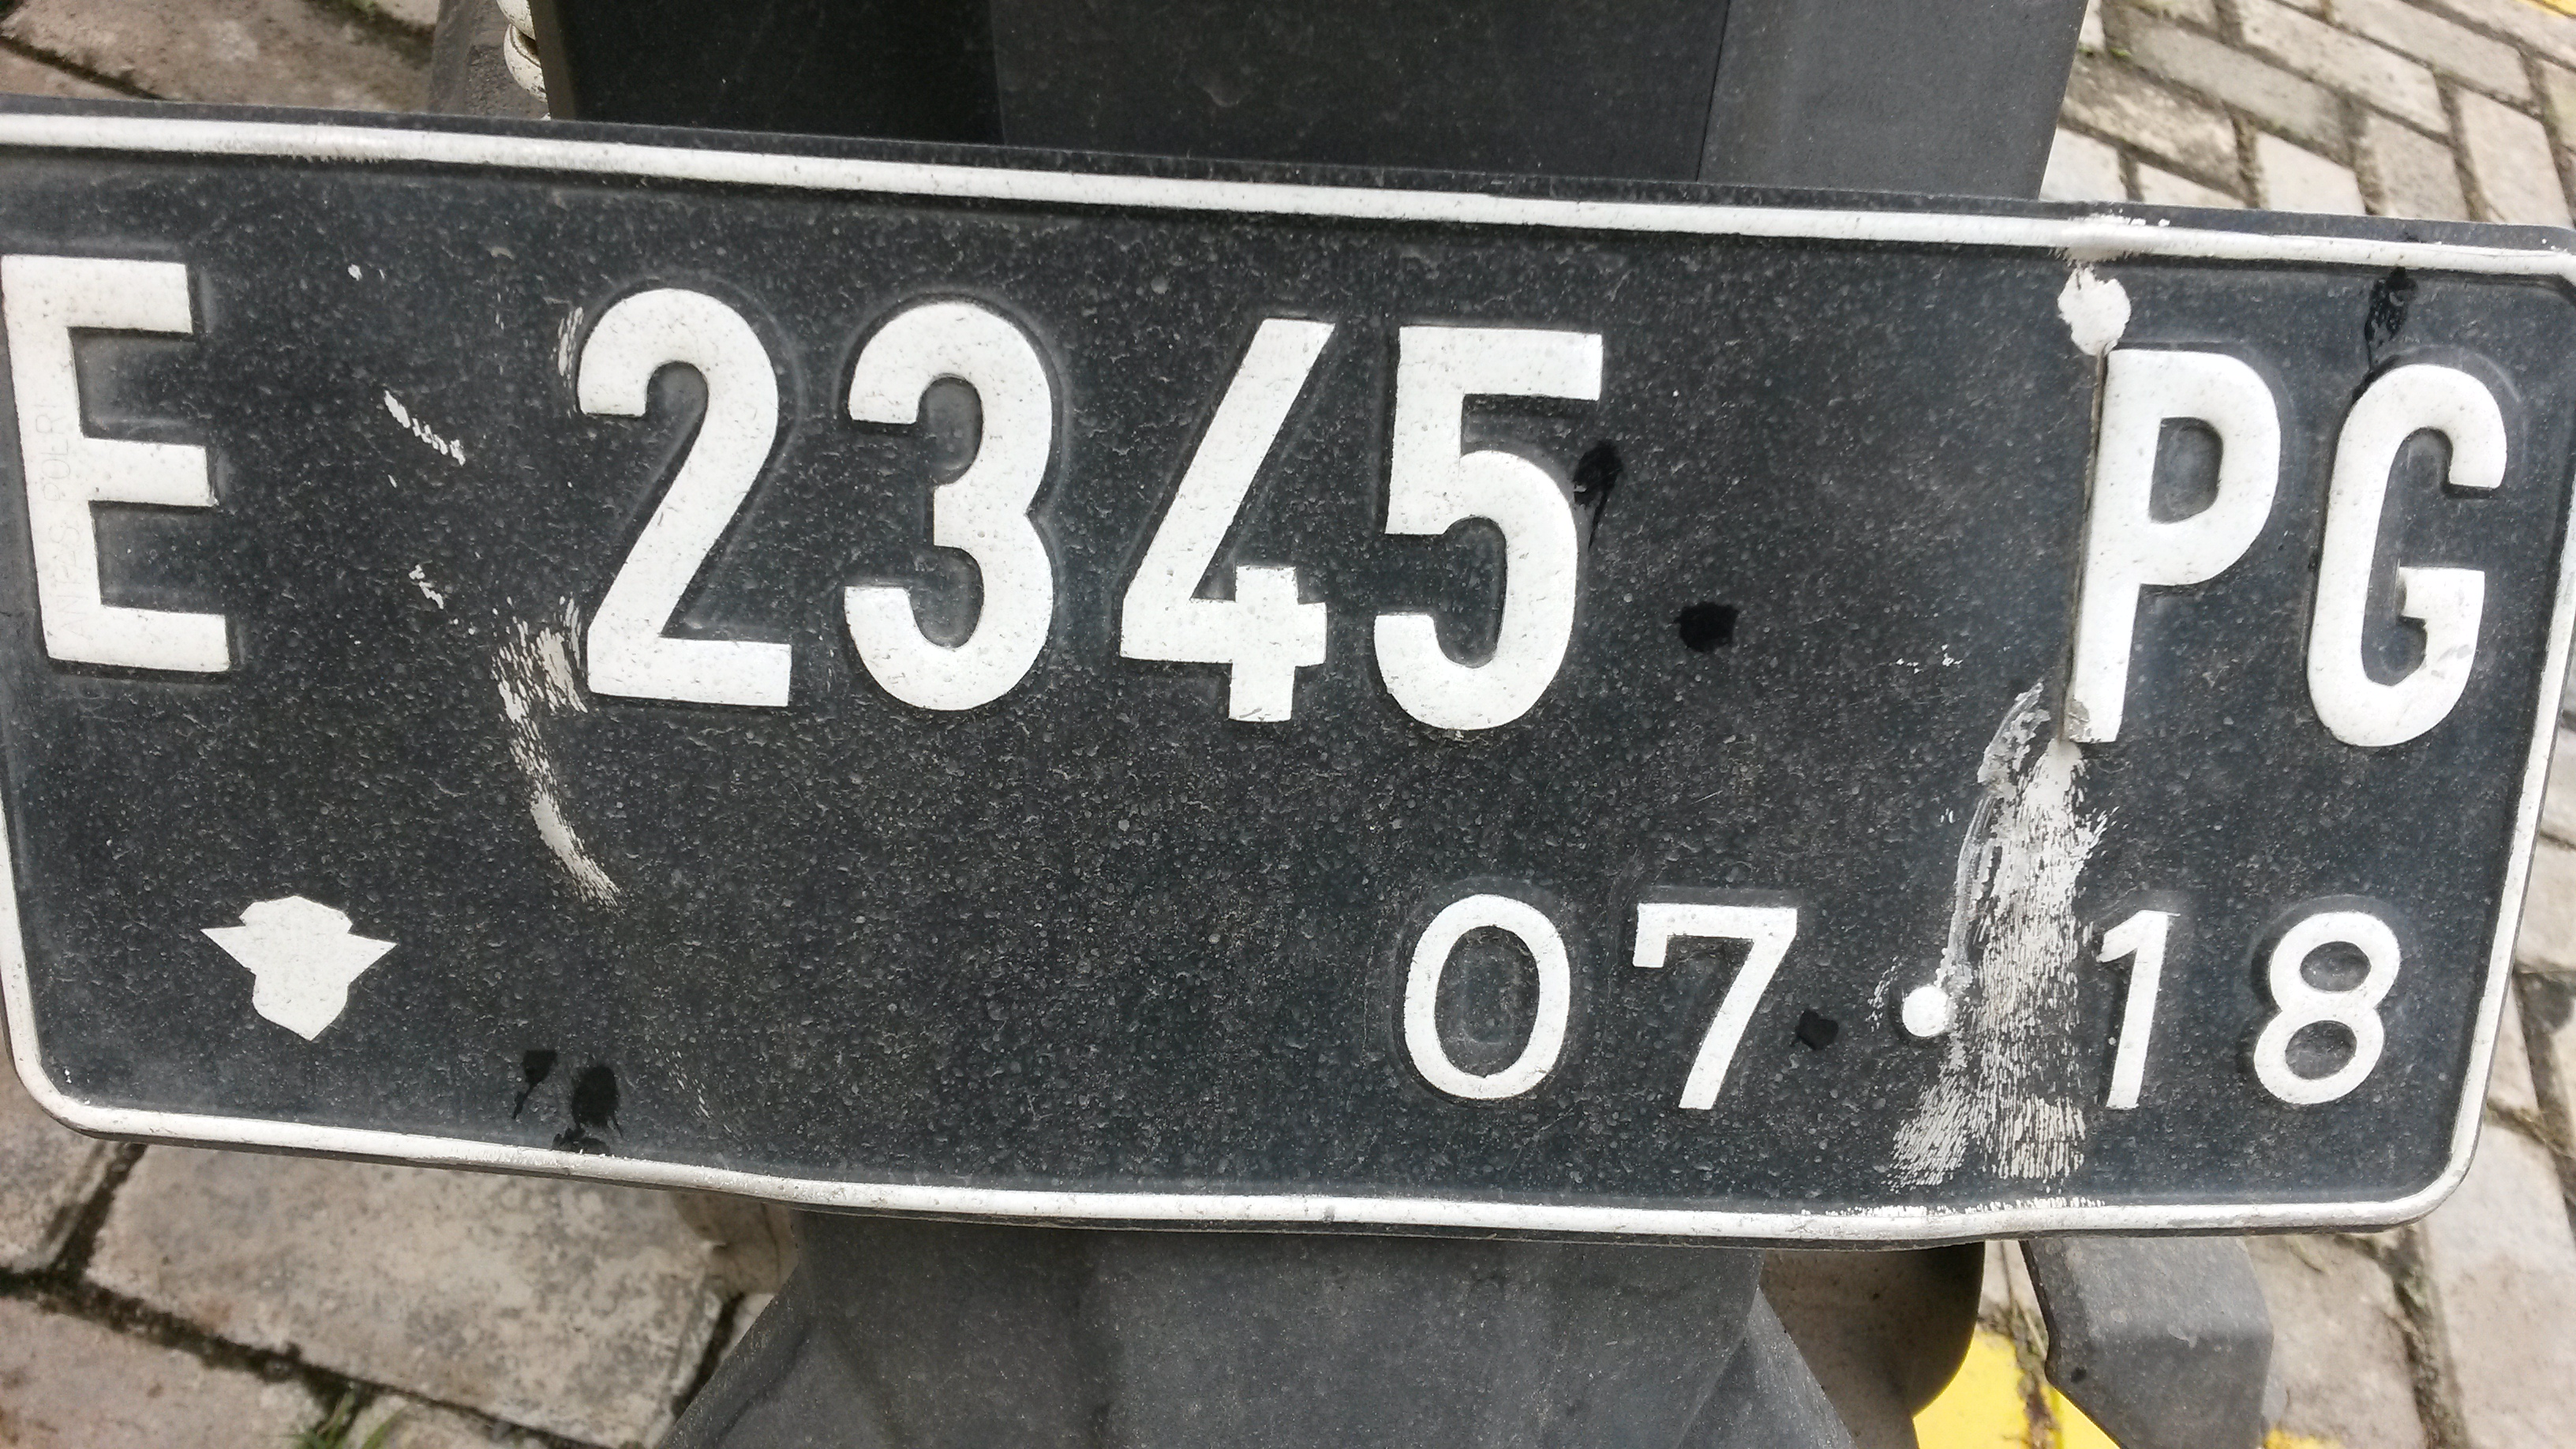plate: (5, 113, 2576, 1243)
